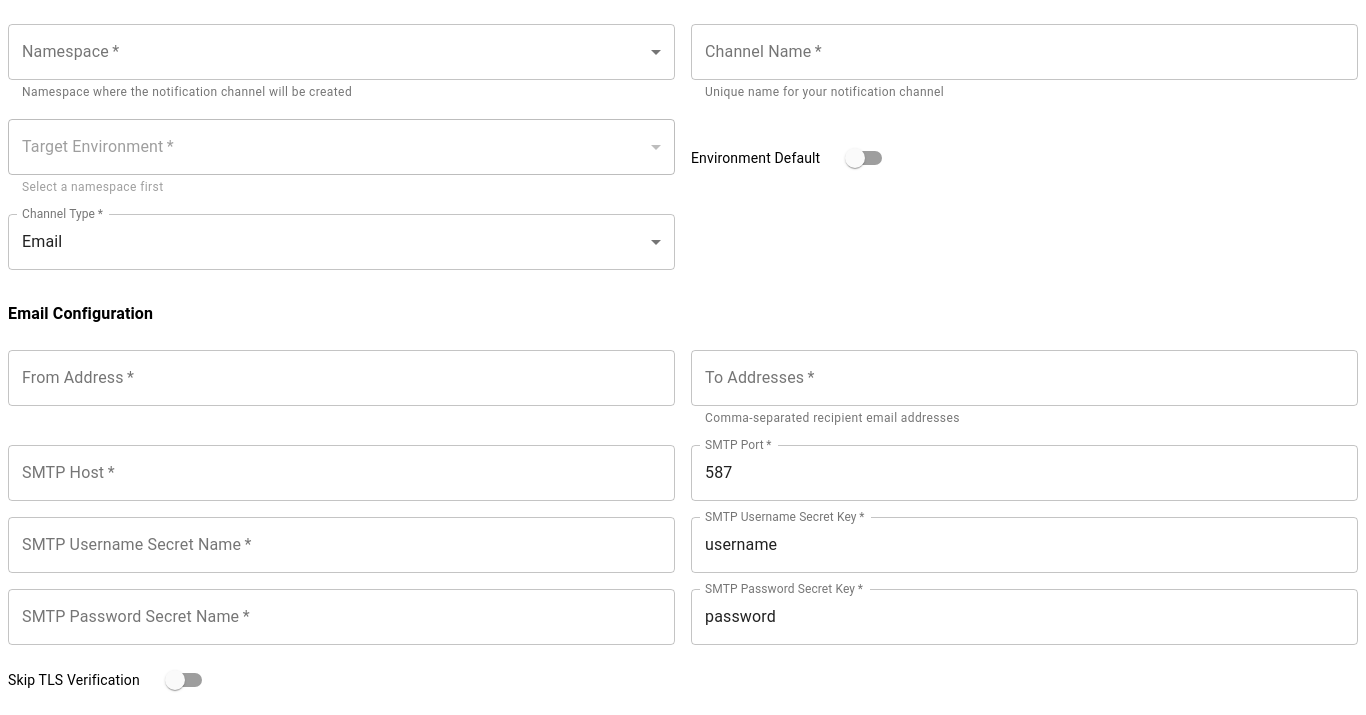
NotificationChannelFormWithYamlExtension — namespace & channel name › shows a format error for an invalid channel name
Type "Invalid Name!" into the field next to "Channel Name" at (1024, 52), box x1=691 y1=24 x2=1358 y2=80
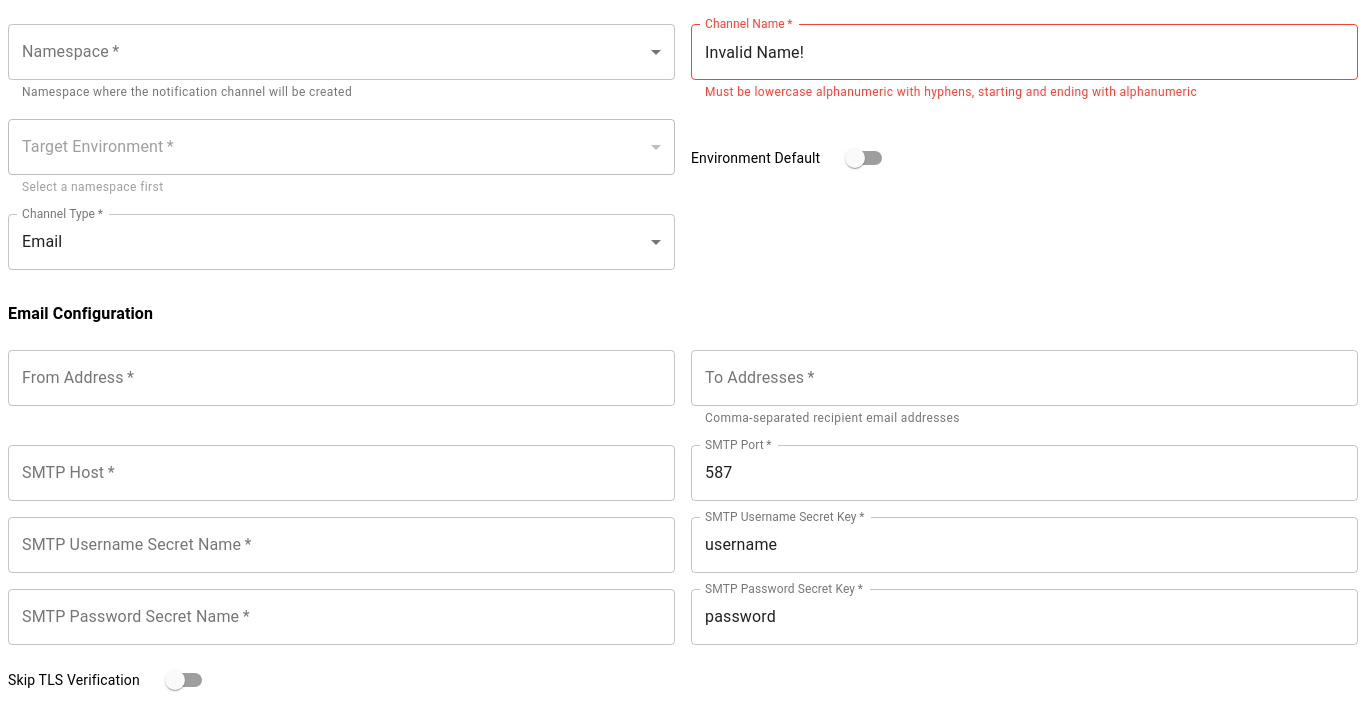
Expected: the text "Must be lowercase alphanumeric with hyphens, starting and ending with alphanumeric" is shown, x1=705 y1=85 x2=1197 y2=99
